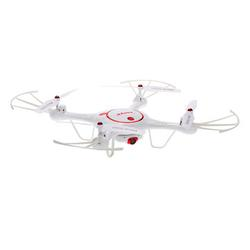drone: (10, 78, 243, 162)
